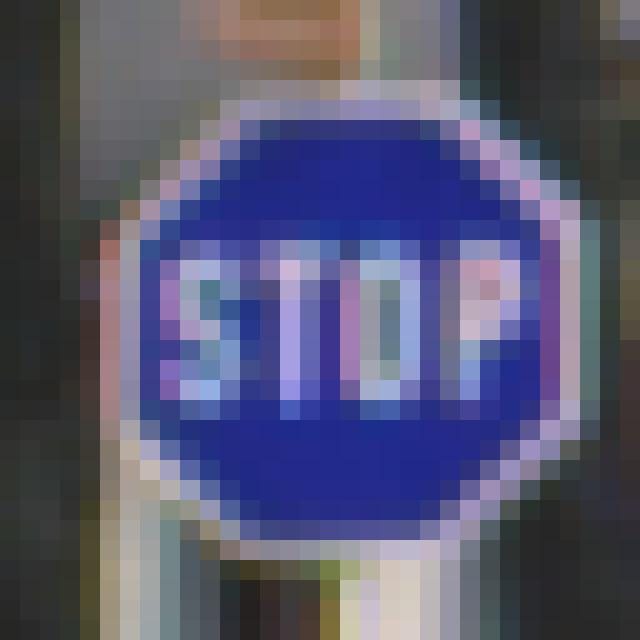STOP: (129, 125, 566, 550)
